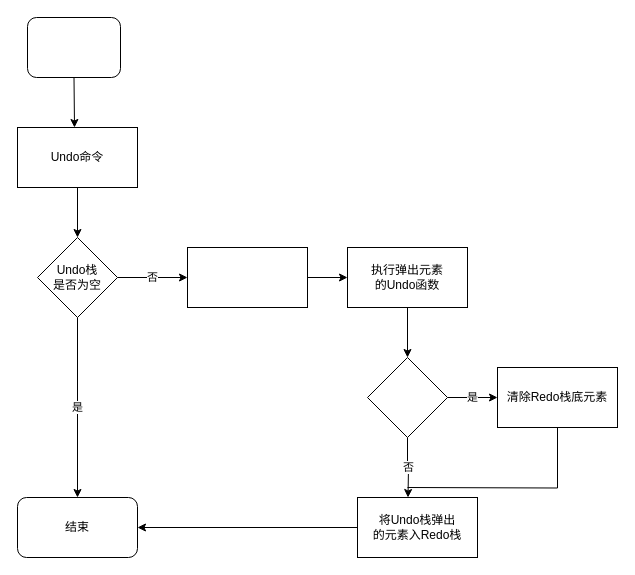
Some shapes in this 635 by 575 pixel diagram are drawn without their labels. Here are the shapes that lost their labels. From the top down, the centre of each, then its label:
point 73,47: 开始
point 247,277: Undo栈顶元素弹出
point 407,397: Redo栈 是否满
